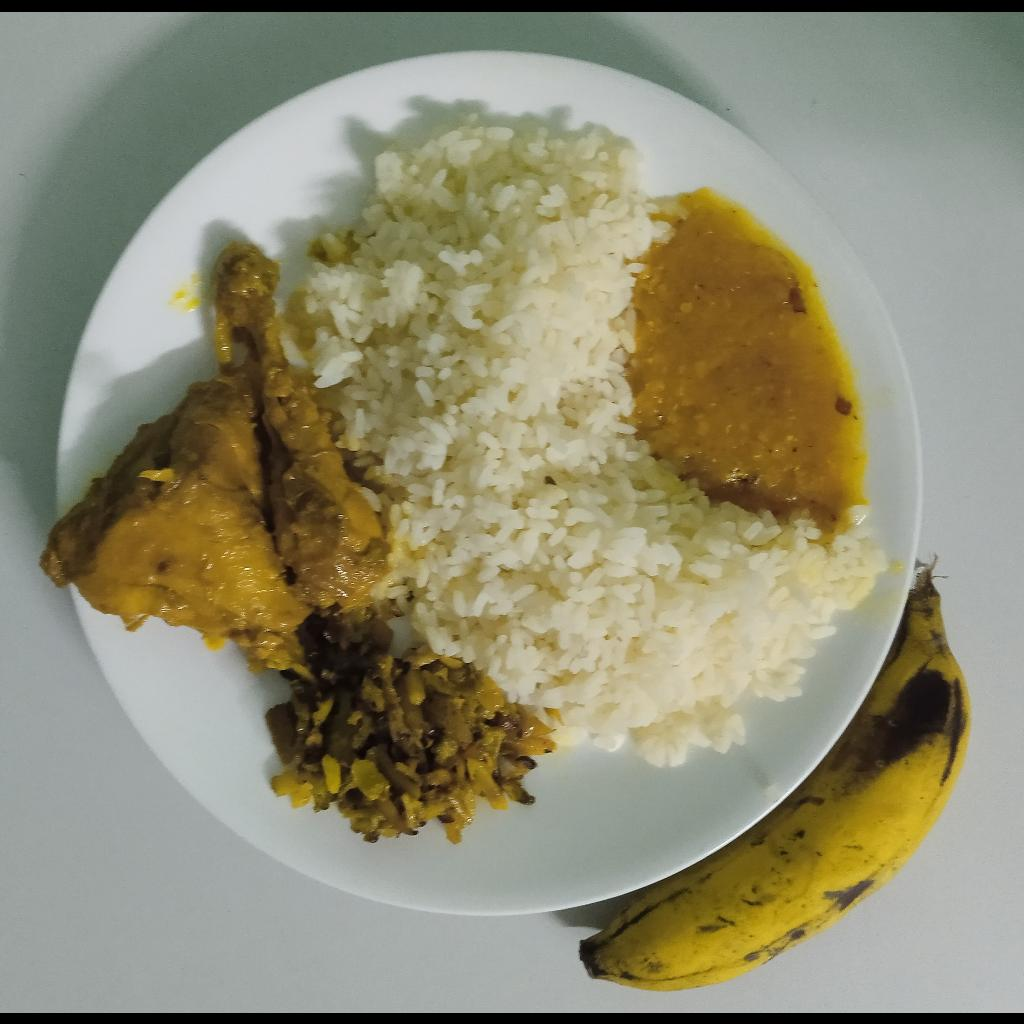banana: (579, 569, 973, 993)
chicken: (41, 242, 393, 668)
daal: (629, 183, 874, 525)
dundol: (267, 605, 559, 843)
rice: (283, 110, 880, 768)
